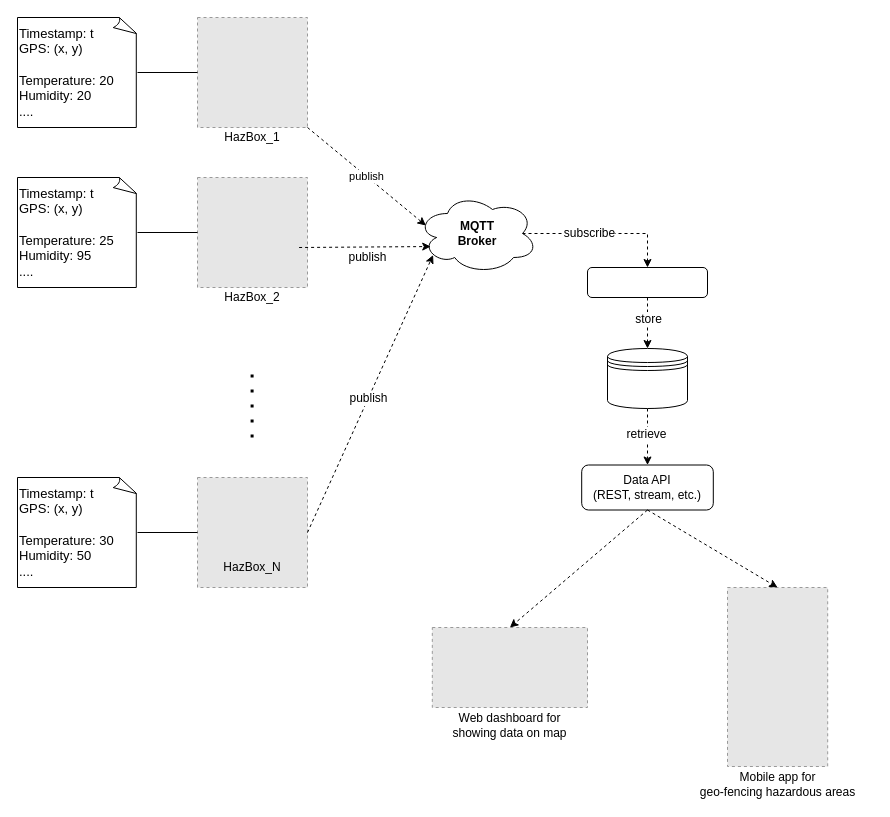
Some shapes in this 890 by 817 pixel diagram are drawn without their labels. Grey dashed boxes stand in for pictures. The shapes that lost their labels are listed below. From the top down, each one's centre as x and y in pixels, then its label:
(x=647, y=282): Data Processing
(x=647, y=378): Database
